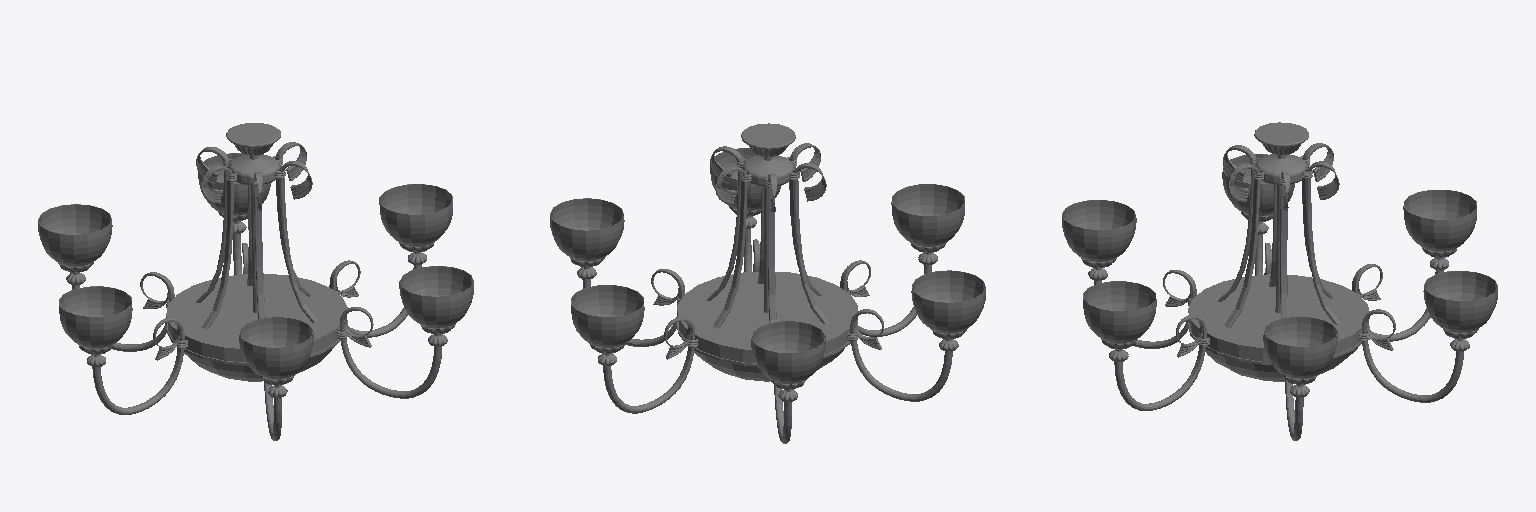
File: light.obj
The picture shows the model from 3 angles: view 1: azimuth 30°, elevation 25°; view 2: azimuth 150°, elevation 25°; view 3: azimuth 270°, elevation 25°; orthographic projection.
Size of the model in its own units: 37.25 by 21.47 by 34.71.